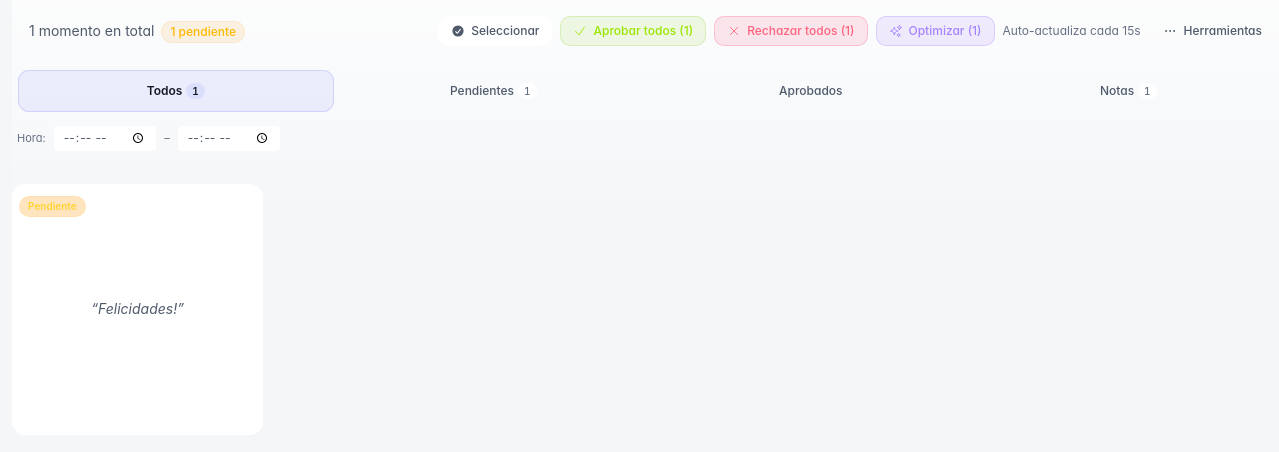
Scenario: MomentsWall — multi-select › entering select mode shows "Seleccionar todo" label
Click the button titled "Seleccionar momentos" at coordinates (495, 31), box x1=438 y1=16 x2=552 y2=46
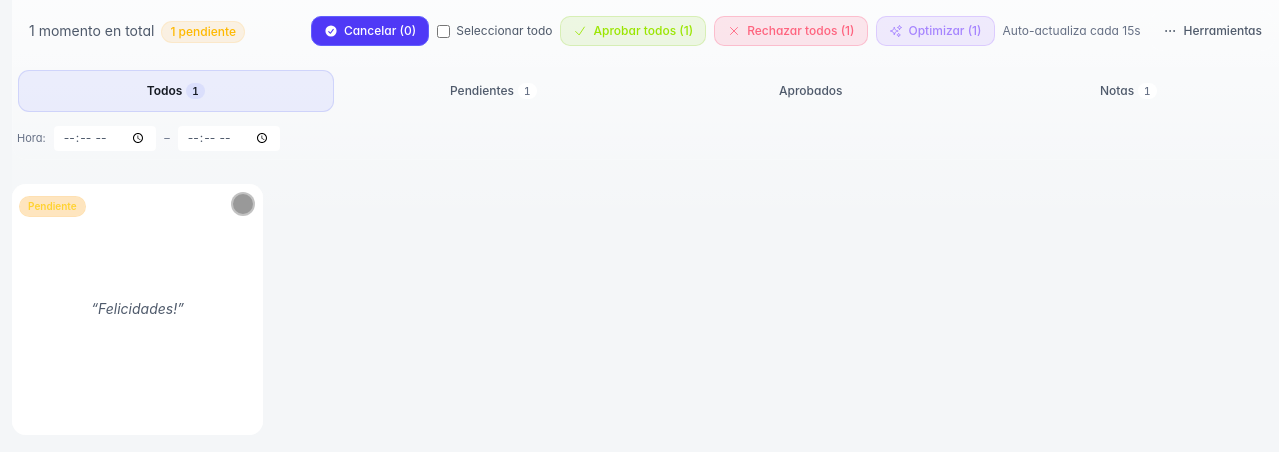
Check: the text "Seleccionar todo" is shown, box x1=456 y1=23 x2=552 y2=39
